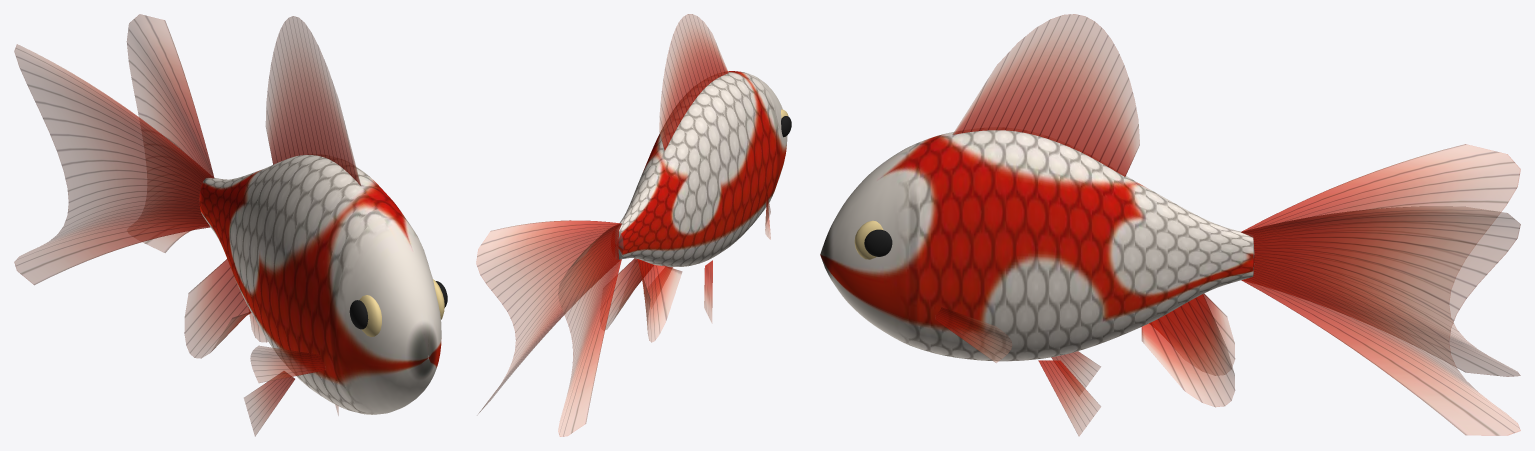
File: ryukin_1.glb
The picture shows the model from 3 angles, left to right: view 1: azimuth 30°, elevation 25°; view 2: azimuth 150°, elevation 25°; view 3: azimuth 270°, elevation 25°; orthographic projection. The views are drawn at different scales.
Visible parts, largest first — view 1: fins, body, iris, pupil; view 2: fins, body; view 3: fins, body.
Part boxes in pixels (box(x1,y1,x2,y2)): fins: box(14, 14, 360, 436); body: box(199, 155, 441, 414); iris: box(359, 279, 444, 336); pupil: box(349, 281, 447, 329); fins: box(476, 14, 770, 436); body: box(615, 71, 787, 266); fins: box(935, 14, 1520, 436); body: box(820, 128, 1254, 361).
Size of the model in its own units: 0.2453 by 0.5994 by 0.9446.
Materials: 4 (2 with a texture image).
